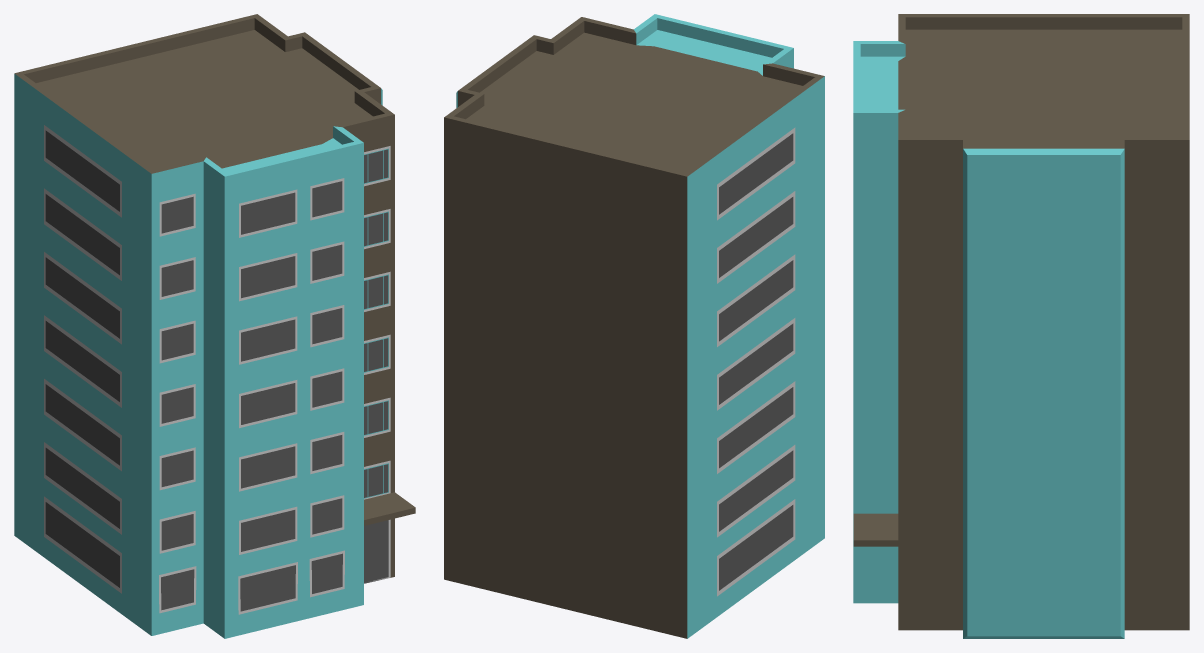
The model's file is apt-3.glb.
The picture shows the model from 3 angles, left to right: view 1: azimuth 30°, elevation 25°; view 2: azimuth 150°, elevation 25°; view 3: azimuth 270°, elevation 25°; orthographic projection. The views are drawn at different scales.
Size of the model in its own units: 1.81 by 3.03 by 1.88.
